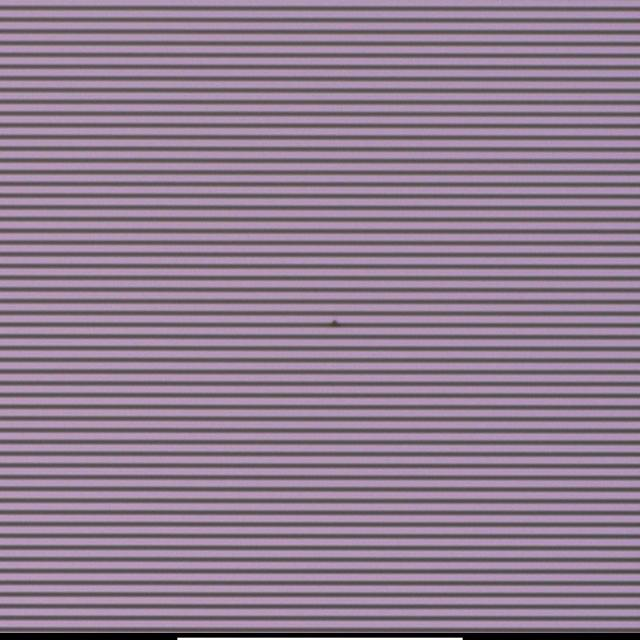03_intrusion: (326, 319, 343, 331)
